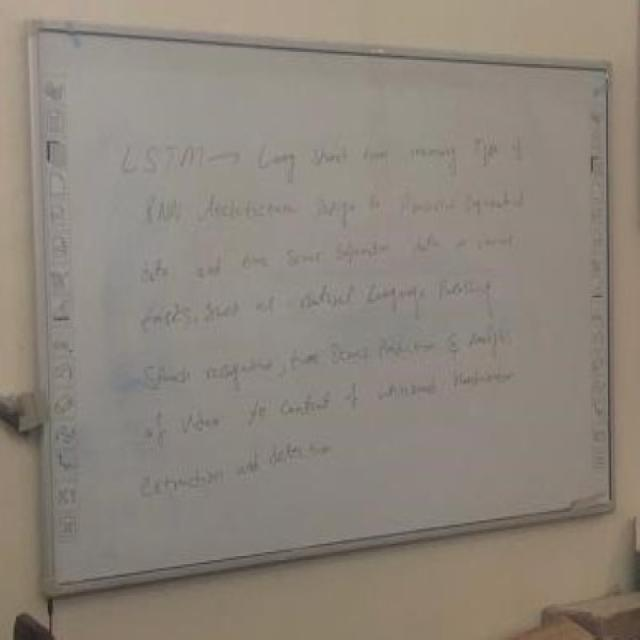White-board: (34, 35, 616, 588)
